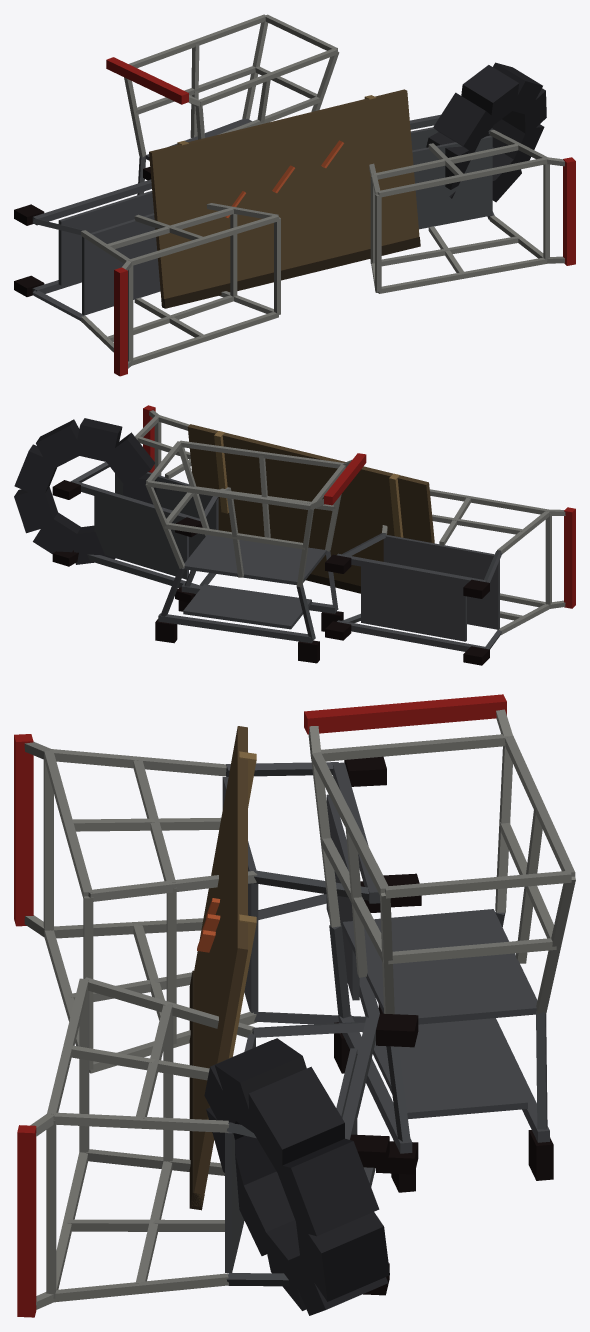
File: hollis_cart_barricade.glb
3 views of the same model, one above another, from view 1: azimuth 30°, elevation 25°; view 2: azimuth 150°, elevation 25°; view 3: azimuth 270°, elevation 25° (orthographic). The views are drawn at different scales.
Visible parts, largest first — view 1: hollis_cart_barricade; view 2: hollis_cart_barricade; view 3: hollis_cart_barricade.
Boxes of the visible parts, x1,y1,x2,y2 form: hollis_cart_barricade: (14, 14, 575, 376); hollis_cart_barricade: (14, 405, 575, 665); hollis_cart_barricade: (14, 694, 575, 1317).
Bounding box in the file's own units: 3.02 × 1.05 × 1.6.
